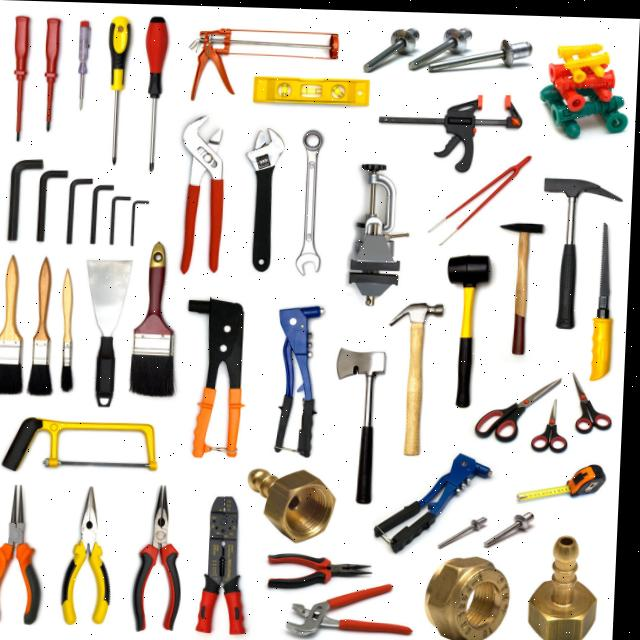Screwdriver: (146, 16, 169, 169), (109, 15, 132, 164), (15, 15, 30, 140), (45, 17, 61, 131), (79, 21, 90, 109)
